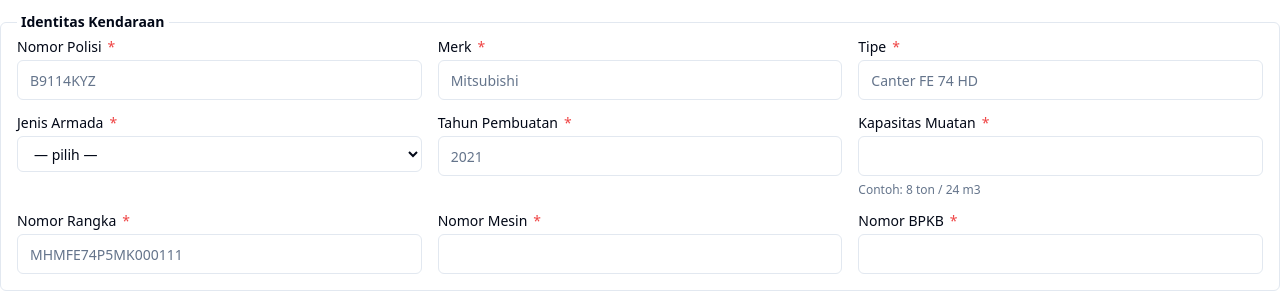
IdentitySection › shows the plate tightened as it is typed
Type "b 9114-kyz" into the field labelled "Nomor Polisi *". click: (219, 80)
box: [17,60,422,100]
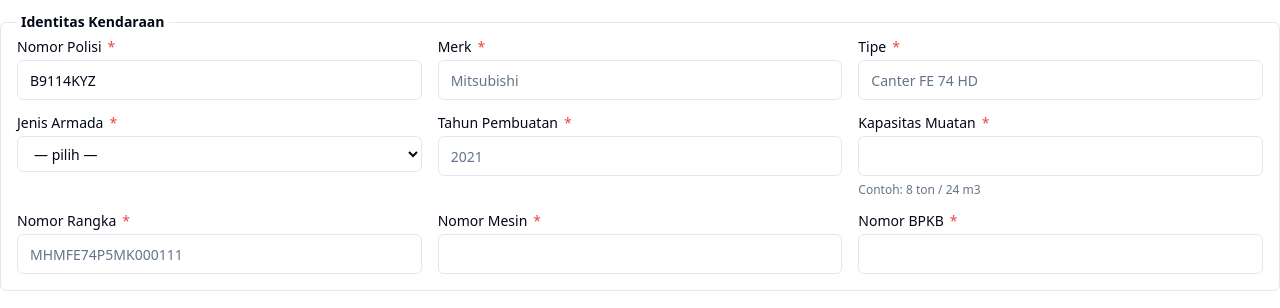
Now the field labelled "Nomor Polisi *" holds "B9114KYZ", box [17,60,422,100]
